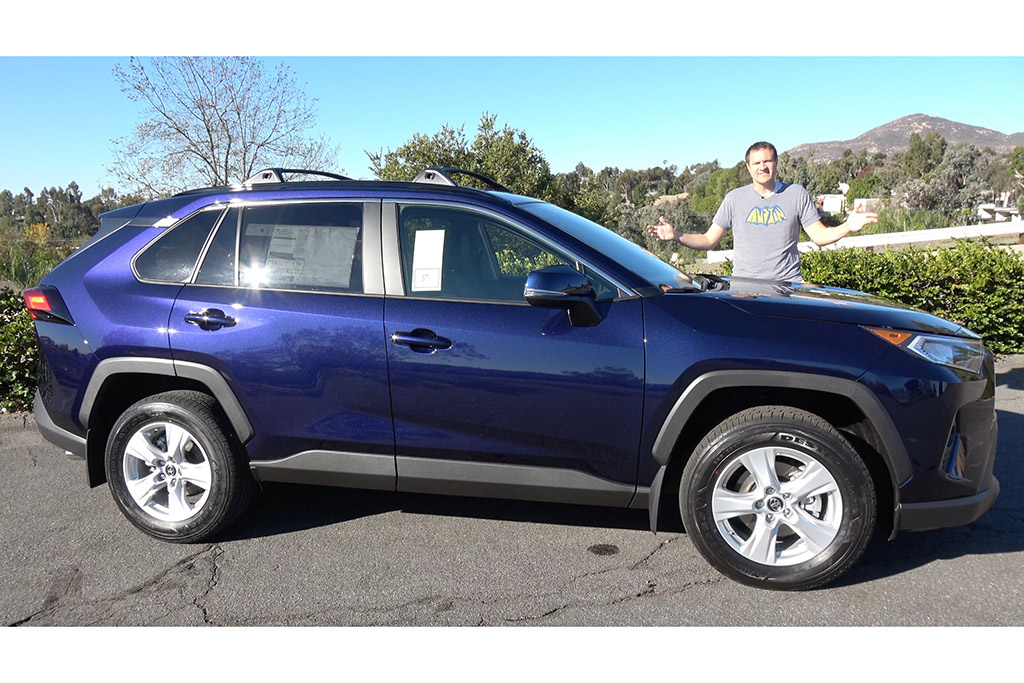Toyota RAV-4: (21, 179, 1003, 593)
